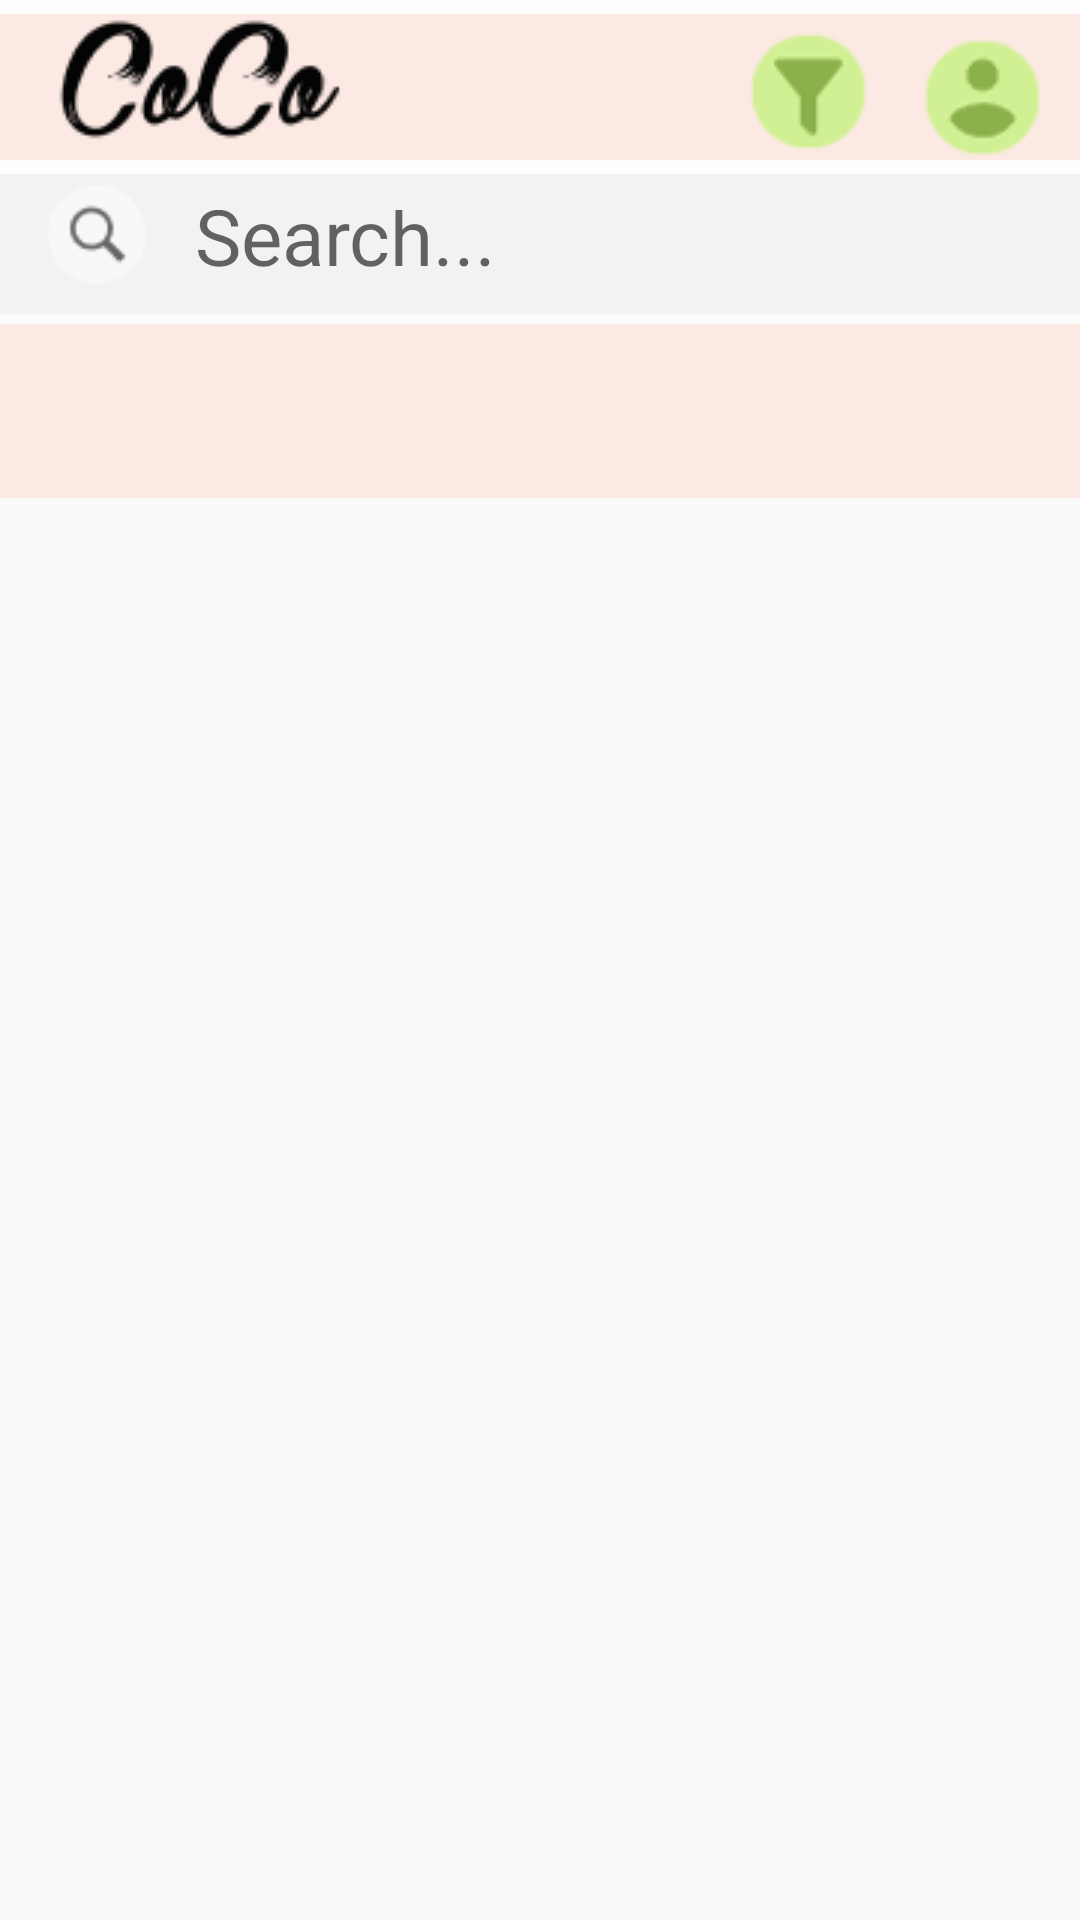

Icons on this 1080px x 1920px Android screen, each with the point to tap as (x=x, y=y):
accountbutton: (x=982, y=97)
filter: (x=808, y=91)
magnify: (x=97, y=234)
